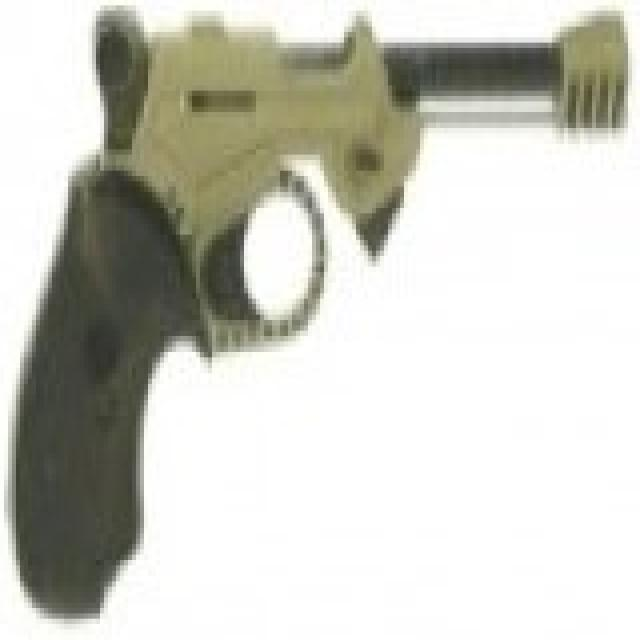Gun: (16, 0, 640, 613)
